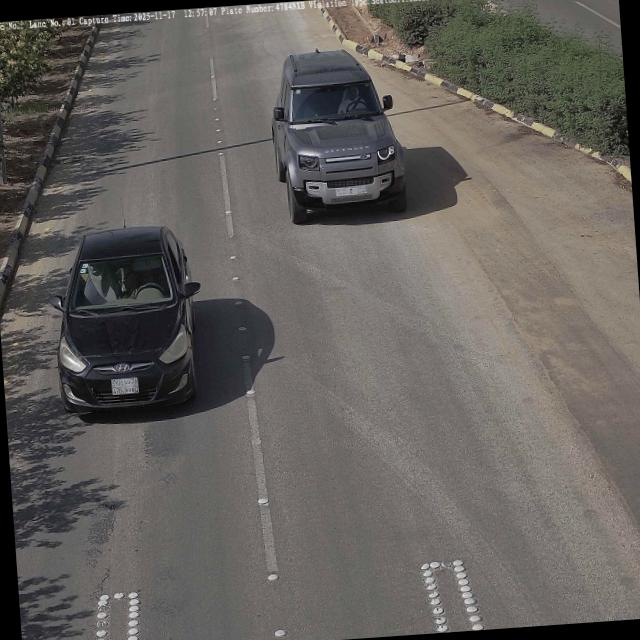person_with_seatbelt: (336, 82, 370, 116)
